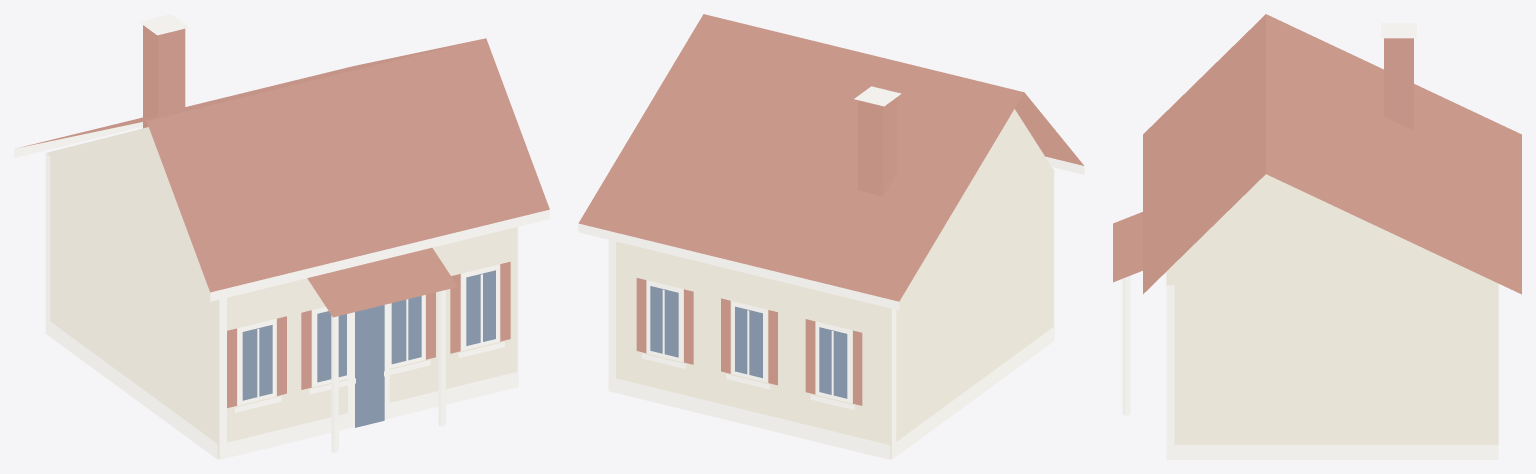
File: Blender_House_Saltbox_2.glb
3 renders of one model, left to right at view 1: azimuth 30°, elevation 25°; view 2: azimuth 150°, elevation 25°; view 3: azimuth 270°, elevation 25°, orthographic. The views are drawn at different scales.
Visible parts, largest first — view 1: Blender_House_Saltbox_2; view 2: Blender_House_Saltbox_2; view 3: Blender_House_Saltbox_2.
Part boxes in pixels (box(x1,y1,x2,y2)): Blender_House_Saltbox_2: box(14, 14, 549, 459); Blender_House_Saltbox_2: box(578, 14, 1084, 459); Blender_House_Saltbox_2: box(1113, 14, 1521, 459).
Bounding box in the file's own units: 1.14 × 1.06 × 1.23.
